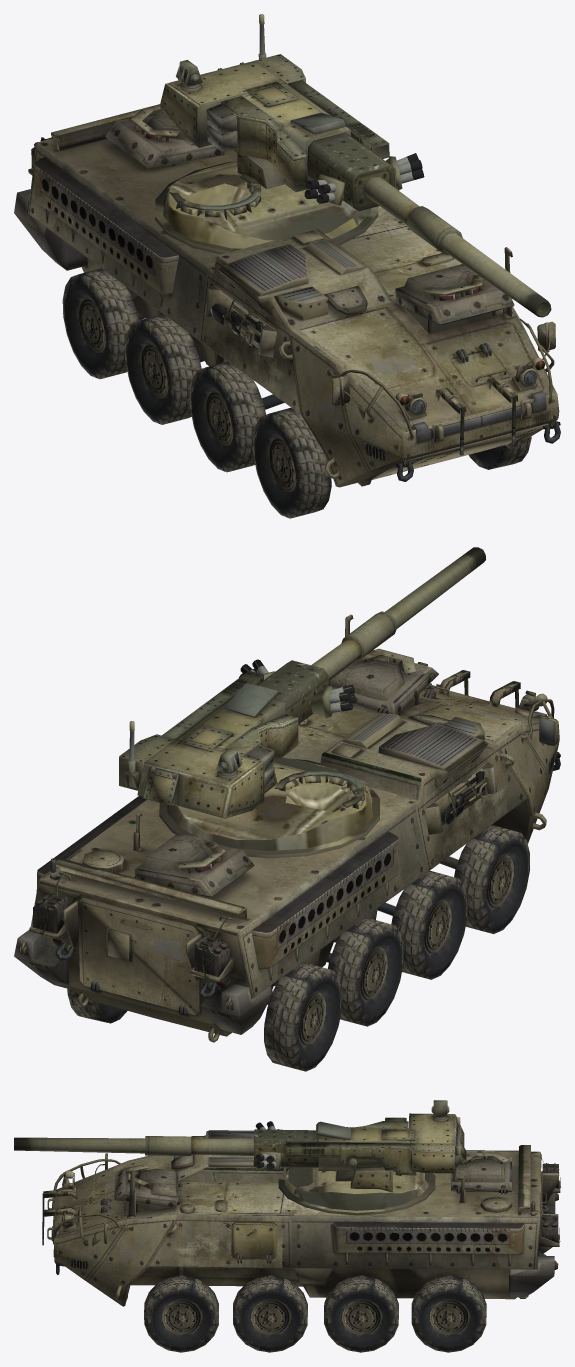
Rendered from stryker-lav.glb.
3 views of the same model, one above another, from view 1: azimuth 30°, elevation 25°; view 2: azimuth 150°, elevation 25°; view 3: azimuth 270°, elevation 25° (orthographic). The views are drawn at different scales.
Parts seen in each view (by area): view 1: TANK_72_1_T72_02_0, TANK_72_1_T72_01_0, TANK_72_1_T72_03_0; view 2: TANK_72_1_T72_02_0, TANK_72_1_T72_01_0, TANK_72_1_T72_03_0; view 3: TANK_72_1_T72_02_0, TANK_72_1_T72_01_0, TANK_72_1_T72_03_0.
Part boxes in pixels (<box>): TANK_72_1_T72_02_0: <box>14,104,560,487</box>; TANK_72_1_T72_01_0: <box>155,14,551,317</box>; TANK_72_1_T72_03_0: <box>62,268,531,518</box>; TANK_72_1_T72_02_0: <box>14,614,560,1042</box>; TANK_72_1_T72_01_0: <box>119,547,485,858</box>; TANK_72_1_T72_03_0: <box>67,825,529,1071</box>; TANK_72_1_T72_02_0: <box>42,1130,560,1306</box>; TANK_72_1_T72_01_0: <box>14,1100,466,1215</box>; TANK_72_1_T72_03_0: <box>144,1275,486,1352</box>.
Bounding box in the file's own units: 2.73 × 3.37 × 7.62.
Materials: 3 (3 with a texture image).
